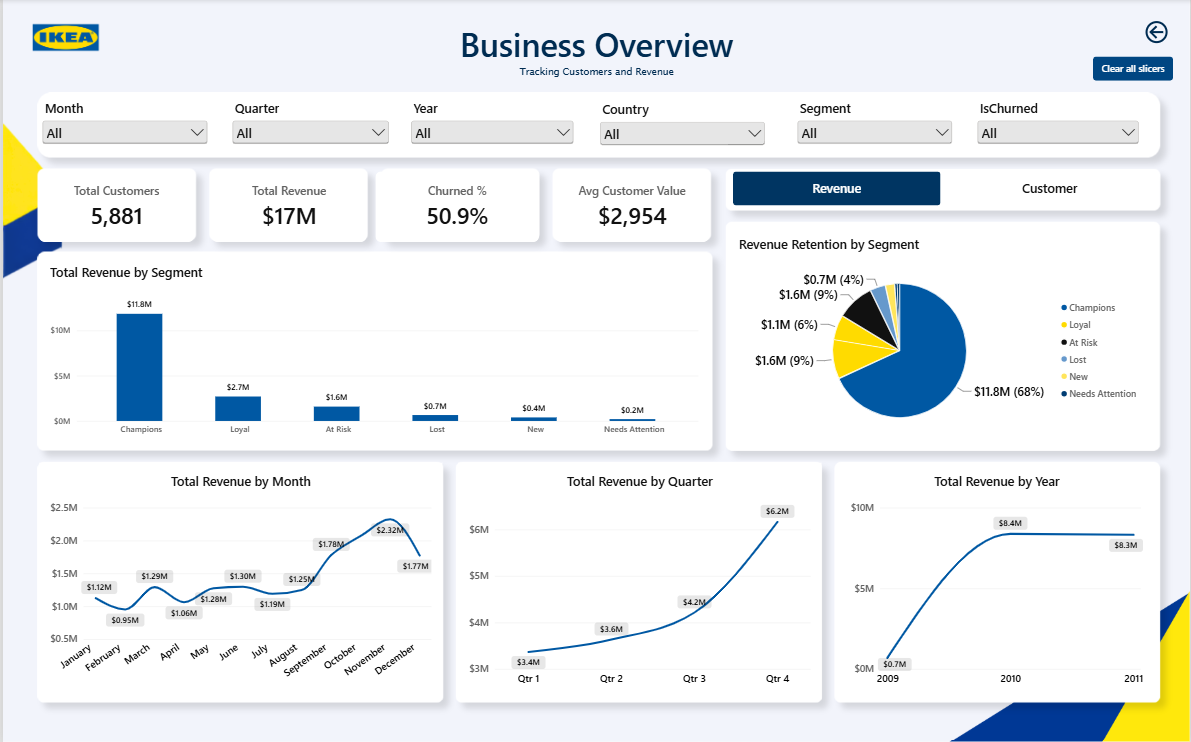

The page's visual inventory and layout, read from the dashboard file:
{"tool":"powerbi","page":{"name":"Overview","canvas":[1750,1100],"ordinal":0},"visuals":[{"type":"cardVisual","fields":{"Data":["Sheet1.Churned %"]},"box":[549.2,254.9,241.8,105],"z":0},{"type":"columnChart","fields":{"Category":["Sheet1.Segment"],"Y":["Sheet1.Total Revenue"]},"box":[54.4,376.8,987.8,286.8],"z":0,"group":"g1"},{"type":"cardVisual","fields":{"Data":["Sheet1.Total Customers"]},"box":[54.4,254.9,228.7,105],"z":1000},{"type":"pieChart","title":"Revenue Retention by Segment","fields":{"Category":["Sheet1.Segment"],"Series":["Sheet1.IsChurned"],"Y":["Sheet1.Total Revenue"]},"box":[1070.4,333.7,627.9,329.9],"z":1000,"group":"g1"},{"type":"cardVisual","fields":{"Data":["Sheet1.Total Revenue"]},"box":[307.4,254.9,228.7,105],"z":2000},{"type":"lineChart","title":"Total Revenue by Month ","fields":{"Category":["Sheet1.InvoiceDate.Variation.Date Hierarchy.Month"],"Y":["Sheet1.Total Revenue"]},"box":[54.4,684.2,594.2,348.7],"z":2000,"group":"g1"},{"type":"cardVisual","fields":{"Data":["Sheet1.Avg Customer Value"]},"box":[815.4,254.9,226.8,105],"z":3000},{"type":"lineChart","fields":{"Category":["Sheet1.InvoiceDate.Variation.Date Hierarchy.Quarter"],"Y":["Sheet1.Total Revenue"]},"box":[671.1,684.2,536.1,348.7],"z":3000,"group":"g1"},{"type":"slicer","fields":{"Values":["Sheet1.InvoiceDate.Variation.Date Hierarchy.Month"]},"box":[54.4,148.1,253.1,76.9],"z":4000},{"type":"lineChart","fields":{"Category":["Sheet1.InvoiceDate.Variation.Date Hierarchy.Year"],"Y":["Sheet1.Total Revenue"]},"box":[1233.4,684.2,464.9,348.7],"z":4000,"group":"g1"},{"type":"slicer","fields":{"Values":["Sheet1.InvoiceDate.Variation.Date Hierarchy.Quarter"]},"box":[333.7,148.1,239.9,76.9],"z":5000},{"type":"slicer","fields":{"Values":["Sheet1.InvoiceDate.Variation.Date Hierarchy.Year"]},"box":[598,148.1,249.3,76.9],"z":6000},{"type":"slicer","fields":{"Values":["Sheet1.Country"]},"box":[875.4,150,253.1,75],"z":7000},{"type":"slicer","fields":{"Values":["Sheet1.Segment"]},"box":[1165.9,148.1,238.1,76.9],"z":8000},{"type":"slicer","fields":{"Values":["Sheet1.IsChurned"]},"box":[1432.1,148.1,247.4,75],"z":9000},{"type":"group","id":"g1","title":"Revenue","box":[54.4,333.7,1643.9,699.2],"z":11000},{"type":"bookmarkNavigator","box":[1075.9,254.9,620.5,50.6],"z":12001},{"type":"image","box":[3.7,15,178.1,84.4],"z":12002},{"type":"textbox","box":[558.2,33.7,633.6,99.3],"z":12003},{"type":"actionButton","box":[1651.4,13.1,99.3,71.2],"z":12004},{"type":"actionButton","box":[1606.4,84.4,118.1,35.6],"z":12005}]}

Visuals, with their boxes in screenshot pixels (x1, y1, x2, y2), scaled from the page's 1750x1100 canvas onto the 1191x742 screenshot:
cardVisual - Sheet1.Churned %: region(374, 172, 538, 243)
columnChart - Sheet1.Segment x Sheet1.Total Revenue: region(37, 254, 709, 448)
cardVisual - Sheet1.Total Customers: region(37, 172, 193, 243)
"Revenue Retention by Segment" pieChart: region(728, 225, 1156, 448)
cardVisual - Sheet1.Total Revenue: region(209, 172, 365, 243)
"Total Revenue by Month " lineChart: region(37, 462, 441, 697)
cardVisual - Sheet1.Avg Customer Value: region(555, 172, 709, 243)
lineChart - Sheet1.InvoiceDate.Variation.Date Hierarchy.Quarter x Sheet1.Total Revenue: region(457, 462, 822, 697)
slicer - Sheet1.InvoiceDate.Variation.Date Hierarchy.Month: region(37, 100, 209, 152)
lineChart - Sheet1.InvoiceDate.Variation.Date Hierarchy.Year x Sheet1.Total Revenue: region(839, 462, 1156, 697)
slicer - Sheet1.InvoiceDate.Variation.Date Hierarchy.Quarter: region(227, 100, 390, 152)
slicer - Sheet1.InvoiceDate.Variation.Date Hierarchy.Year: region(407, 100, 577, 152)
slicer - Sheet1.Country: region(596, 101, 768, 152)
slicer - Sheet1.Segment: region(793, 100, 956, 152)
slicer - Sheet1.IsChurned: region(975, 100, 1143, 150)
"Revenue" group: region(37, 225, 1156, 697)
bookmarkNavigator: region(732, 172, 1155, 206)
image: region(3, 10, 124, 67)
textbox: region(380, 23, 811, 90)
actionButton: region(1124, 9, 1190, 57)
actionButton: region(1093, 57, 1174, 81)
